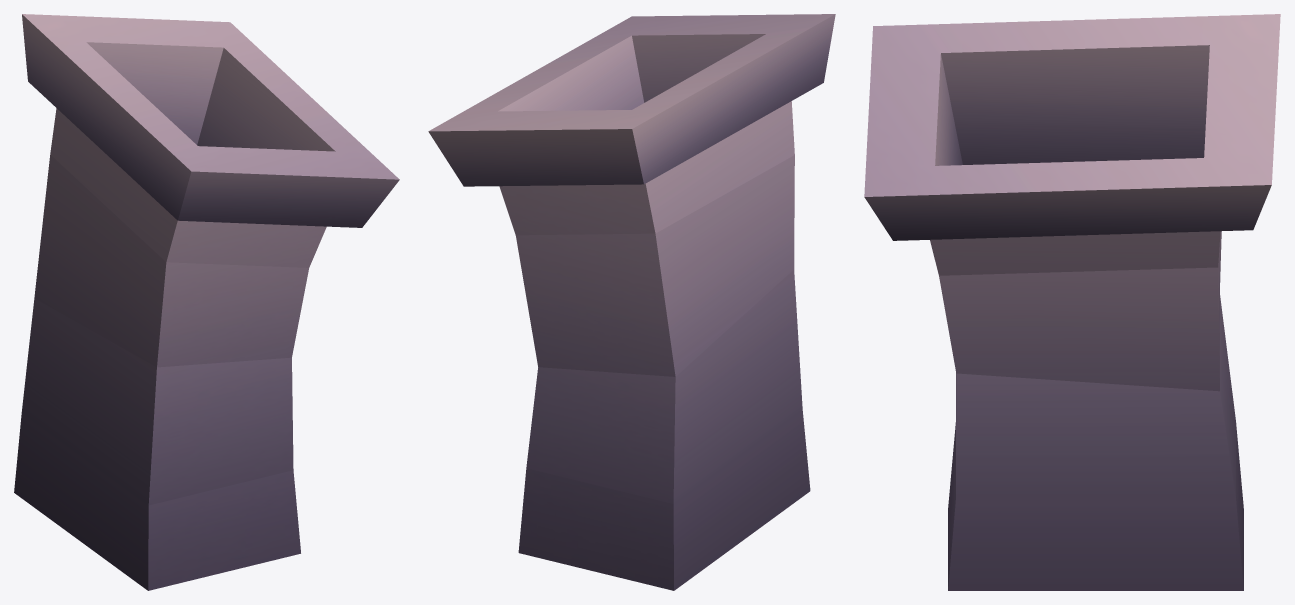
Rendered from Chimney 1.fbx.
3 renders of one model, left to right at view 1: azimuth 30°, elevation 25°; view 2: azimuth 150°, elevation 25°; view 3: azimuth 270°, elevation 25°, orthographic. The views are drawn at different scales.
Visible parts, largest first — view 1: Chimey 1; view 2: Chimey 1; view 3: Chimey 1.
Boxes of the visible parts, x1,y1,x2,y2 form: Chimey 1: (14,14,399,590); Chimey 1: (428,14,835,590); Chimey 1: (864,14,1280,590).
Size of the model in its own units: 80.43 by 155 by 115.
